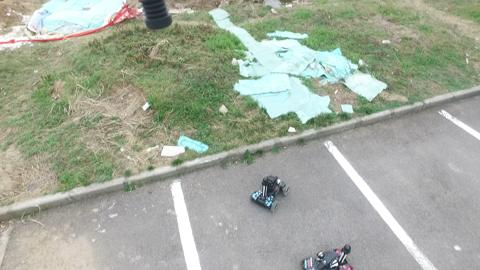chariot: (292, 234, 357, 270), (245, 171, 293, 216)
